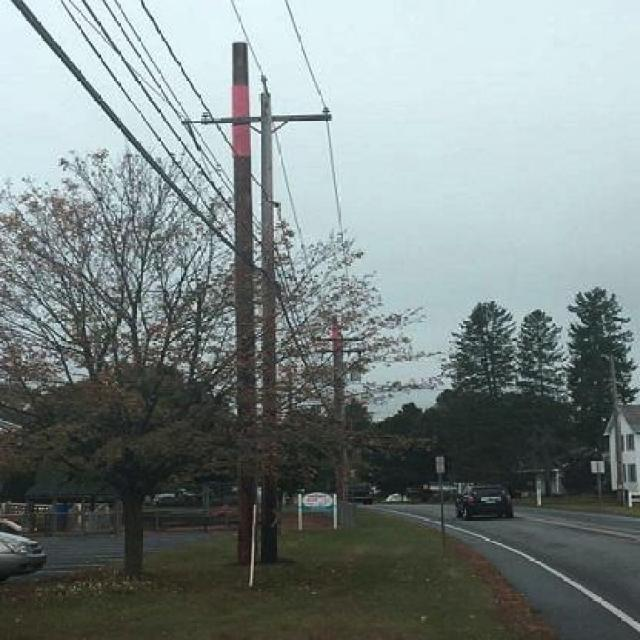crossarm: (188, 108, 334, 134)
pole: (234, 40, 260, 585), (260, 92, 278, 568)
wire: (13, 0, 340, 428), (225, 2, 333, 359), (58, 0, 221, 227), (81, 2, 234, 214), (284, 2, 362, 362), (100, 1, 231, 195), (139, 2, 233, 150)
